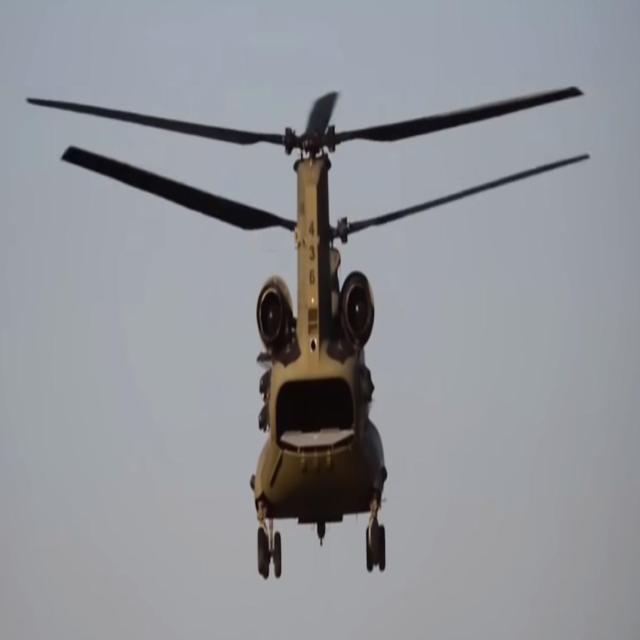Helicopter: (247, 106, 394, 588)
